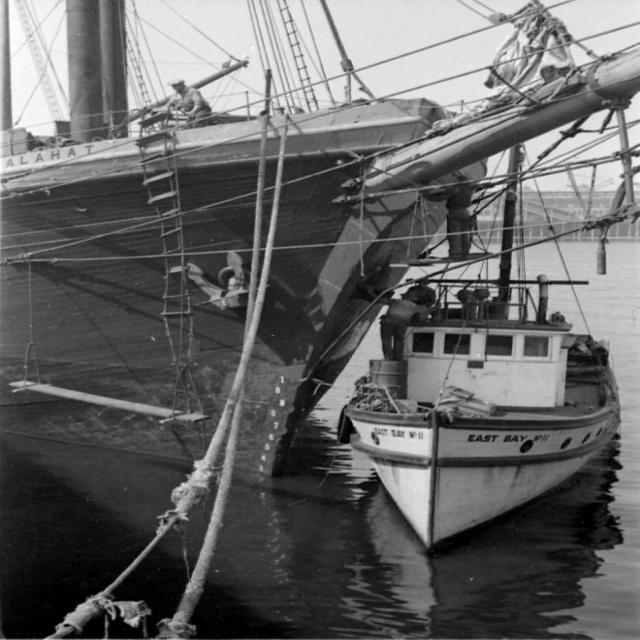Boat: (0, 0, 639, 478), (344, 131, 630, 551)
